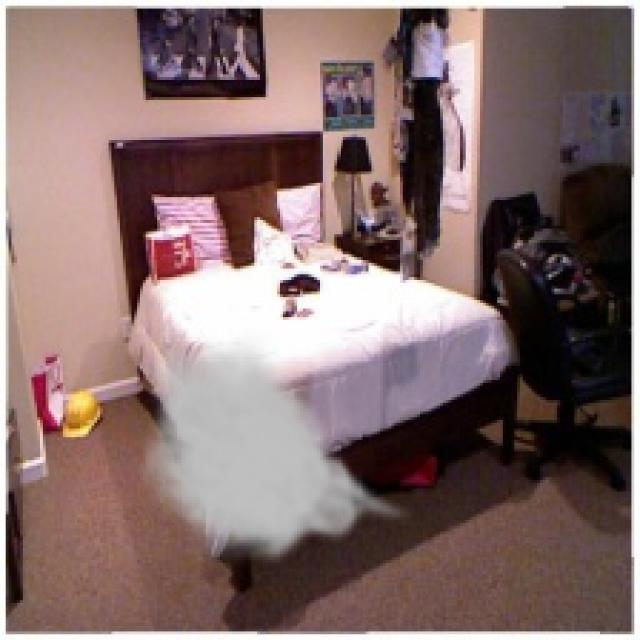smoke: (137, 328, 414, 568)
